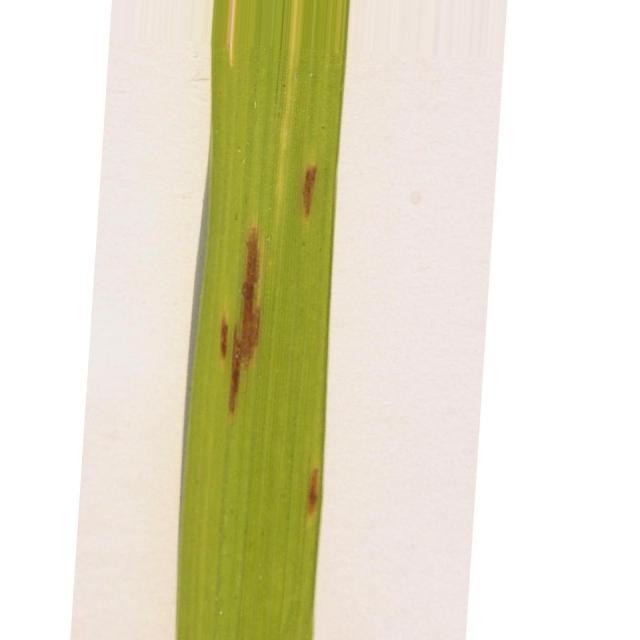Brown_Spot: (229, 228, 260, 413), (302, 165, 316, 216), (308, 469, 320, 514), (220, 314, 229, 358)
